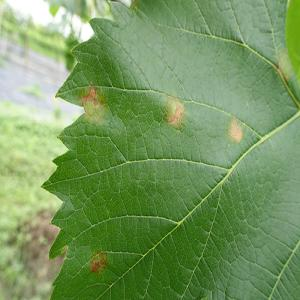Folha: (41, 0, 299, 298)
Fungo: (81, 85, 107, 124), (163, 94, 187, 130), (88, 249, 108, 275), (81, 86, 99, 106), (228, 118, 242, 142), (90, 260, 100, 272), (99, 258, 107, 266)
